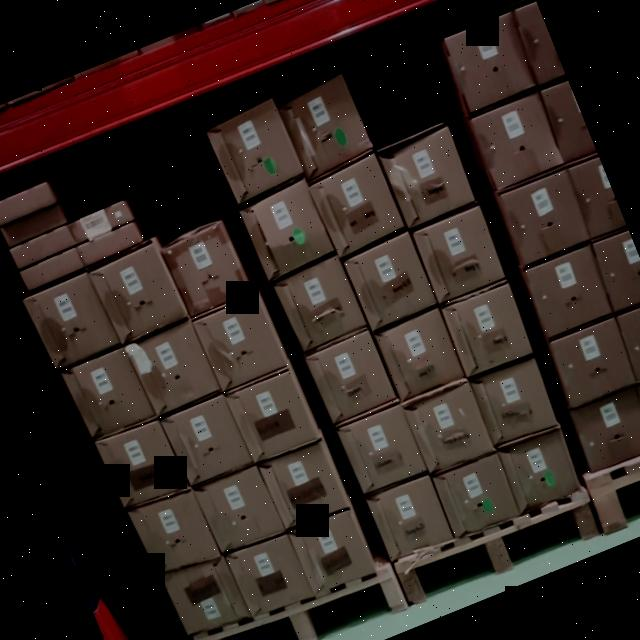box: (377, 125, 477, 228), (308, 152, 404, 258), (275, 70, 371, 174), (92, 243, 187, 341), (207, 101, 300, 199), (469, 93, 563, 188), (192, 292, 284, 389), (440, 282, 535, 375), (444, 14, 536, 110), (240, 185, 333, 278), (344, 234, 436, 328), (274, 258, 366, 350), (304, 331, 396, 423), (338, 402, 428, 496), (414, 208, 504, 302), (523, 244, 613, 338), (498, 169, 588, 262), (227, 368, 316, 462), (129, 321, 218, 414), (404, 381, 494, 472), (28, 271, 114, 366), (374, 309, 464, 399), (546, 318, 636, 408), (260, 438, 348, 530), (470, 357, 557, 446), (164, 394, 250, 484), (64, 347, 150, 437), (131, 486, 217, 575), (98, 418, 184, 507), (288, 509, 375, 596), (226, 530, 312, 618), (367, 475, 452, 561), (196, 467, 282, 552), (432, 453, 518, 537), (166, 228, 247, 312), (498, 430, 580, 510), (165, 556, 246, 636), (569, 388, 640, 472), (564, 154, 626, 236), (538, 80, 595, 158), (512, 0, 564, 81), (590, 228, 640, 311), (67, 199, 131, 243), (0, 202, 66, 244), (11, 226, 74, 268), (77, 224, 142, 264), (19, 247, 82, 287), (614, 297, 640, 382), (0, 182, 54, 222)
